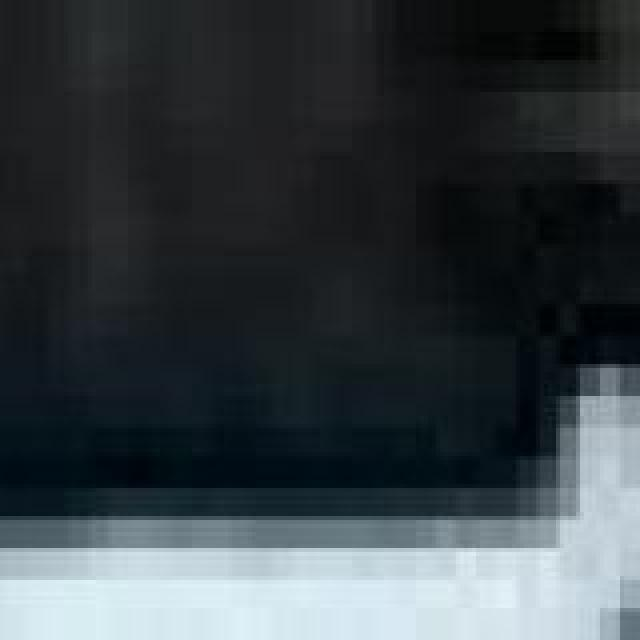diode: (0, 0, 632, 636)
